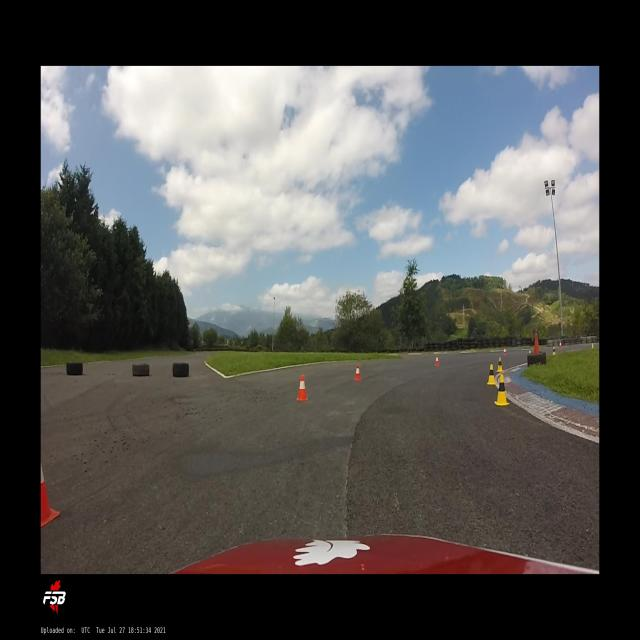orange_cone: (41, 462, 60, 527), (296, 374, 308, 400), (354, 364, 361, 381), (435, 354, 439, 366), (559, 341, 562, 349), (504, 348, 506, 356)
yellow_cone: (494, 374, 510, 406), (487, 364, 496, 385), (496, 356, 504, 372), (552, 346, 556, 356)
